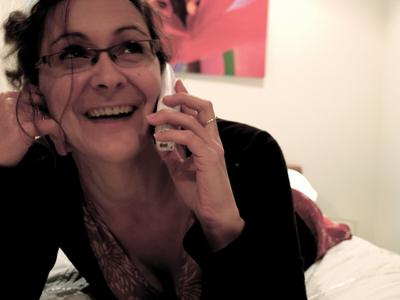person: (5, 2, 311, 299)
